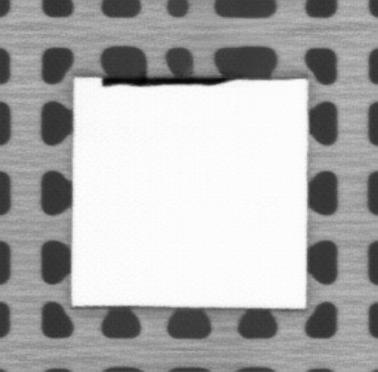DIE_BROKEN: (98, 73, 231, 88)
